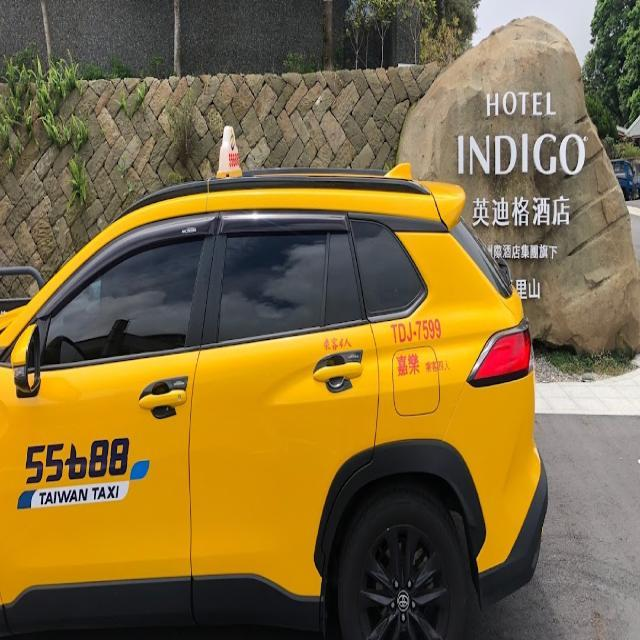Taxi: (0, 164, 548, 637)
